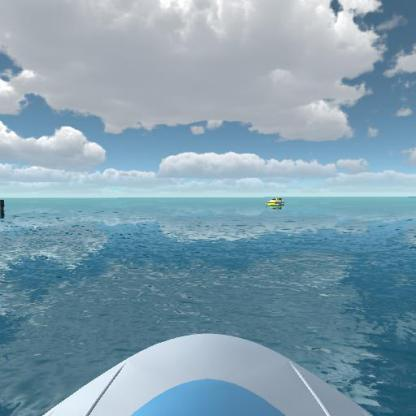usv2: (262, 193, 290, 213)
